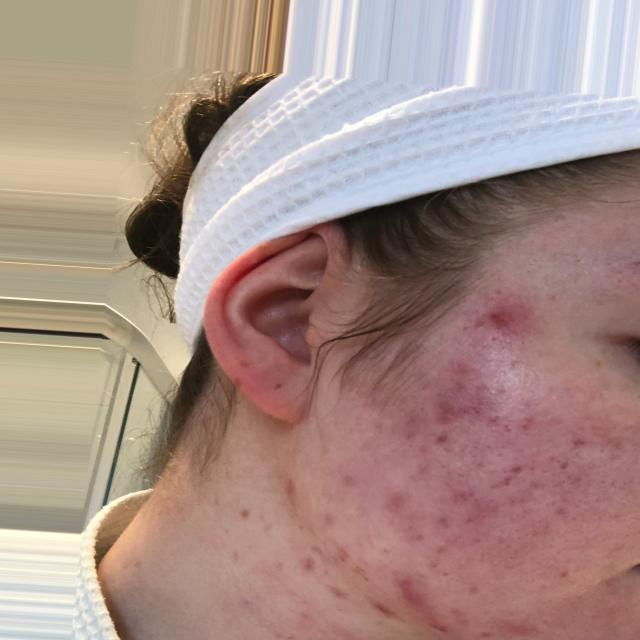Acne: (389, 354, 516, 442), (358, 561, 452, 640), (370, 481, 469, 553), (502, 456, 618, 516), (441, 284, 538, 352), (488, 392, 574, 454), (450, 468, 538, 524), (265, 468, 334, 537), (472, 592, 549, 640), (356, 475, 414, 516)
